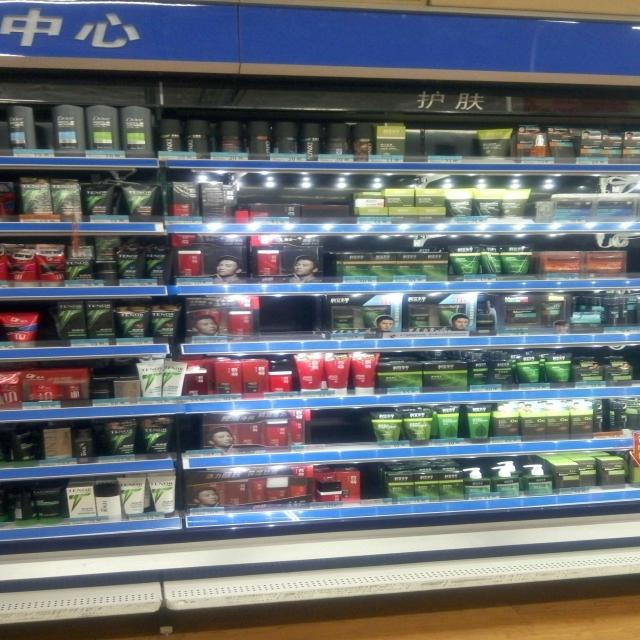void: (263, 294, 325, 336), (409, 120, 472, 156), (315, 411, 364, 444)
